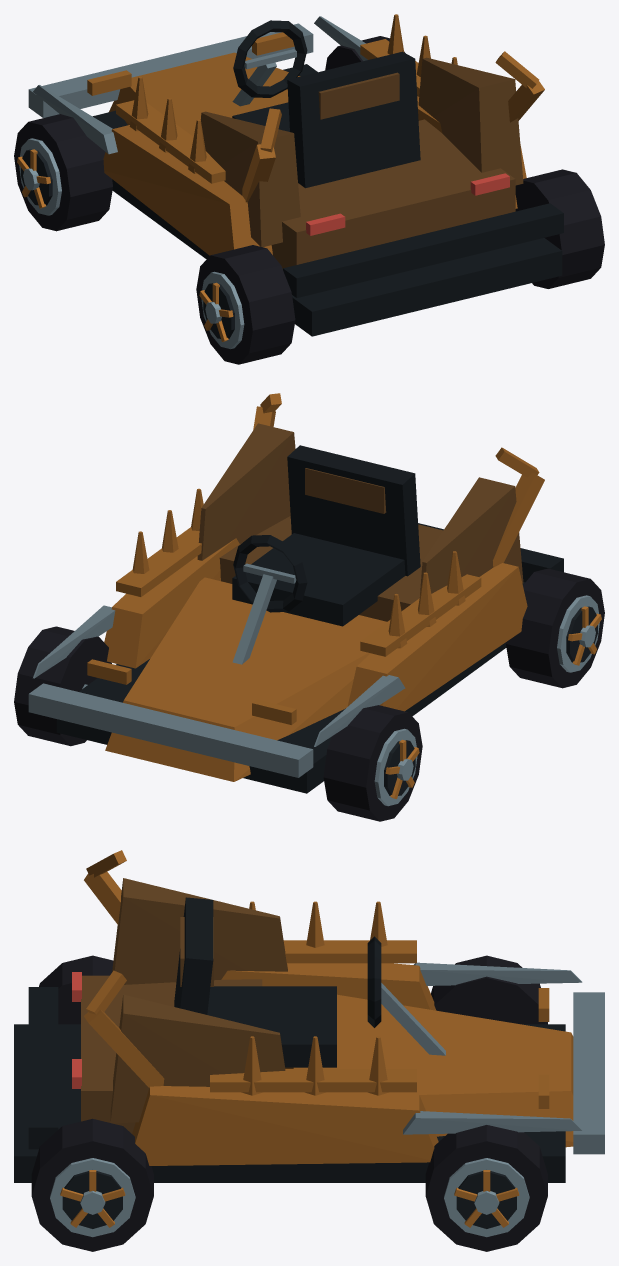
Rendered from kart.glb.
3 renders of one model, top to bottom at view 1: azimuth 30°, elevation 25°; view 2: azimuth 150°, elevation 25°; view 3: azimuth 270°, elevation 25°, orthographic. The views are drawn at different scales.
Parts seen in each view (by area): view 1: chassis, wheel-rear-left, wheel-front-left, wheel-rear-right, wheel-front-right; view 2: chassis, wheel-front-left, wheel-rear-left, wheel-front-right; view 3: chassis, wheel-rear-right, wheel-front-right, wheel-front-left, wheel-rear-left.
Boxes of the visible parts, <box> form: chassis: <box>28,14,563,336</box>; wheel-rear-left: <box>196,245,295,364</box>; wheel-front-left: <box>14,114,112,231</box>; wheel-rear-right: <box>515,169,604,288</box>; wheel-front-right: <box>325,36,404,70</box>; chassis: <box>28,393,563,793</box>; wheel-front-left: <box>323,705,422,821</box>; wheel-rear-left: <box>506,568,604,688</box>; wheel-front-right: <box>14,626,111,746</box>; chassis: <box>14,850,604,1182</box>; wheel-rear-right: <box>31,1118,153,1251</box>; wheel-front-right: <box>425,1125,547,1251</box>; wheel-front-left: <box>431,955,547,1024</box>; wheel-rear-left: <box>39,955,113,1024</box>.
Bounding box in the file's own units: 2.4 × 1.38 × 3.
